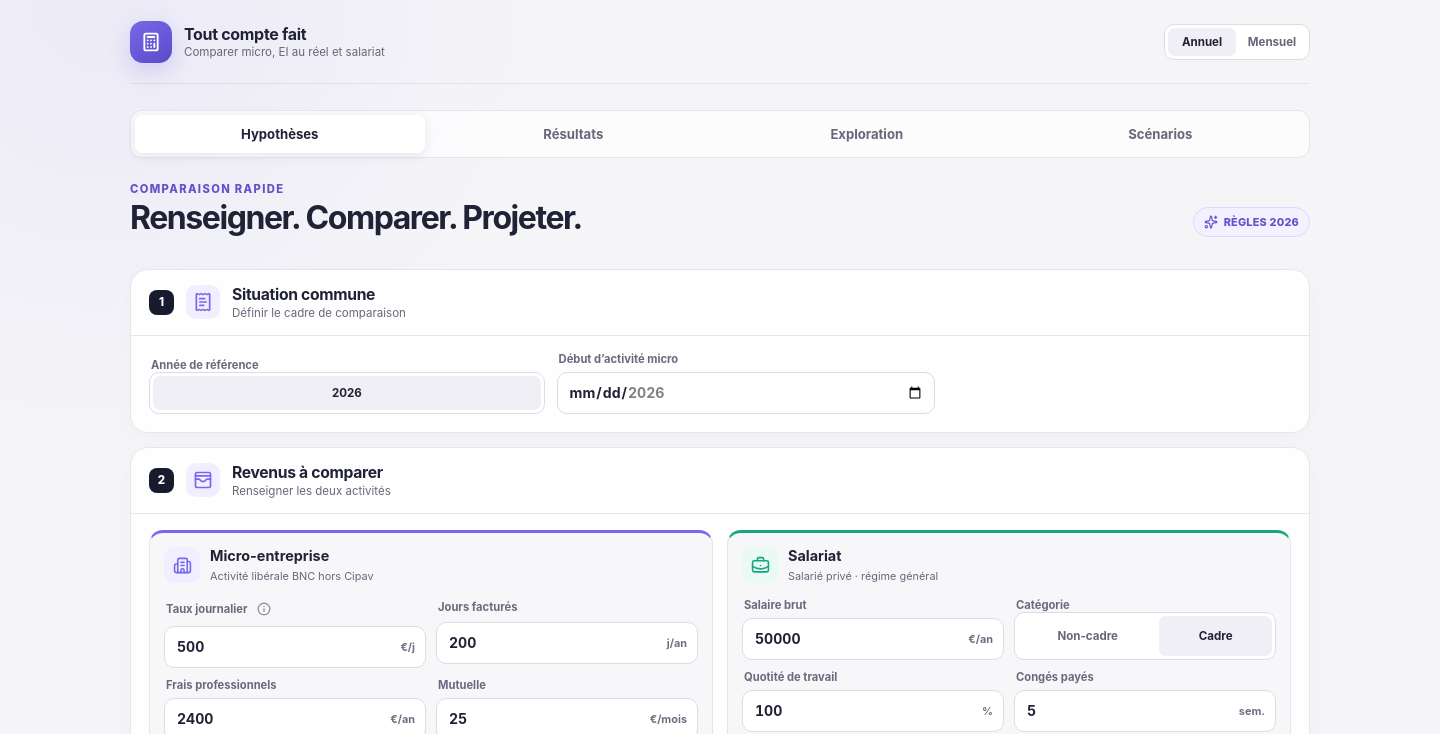
it: decision tools › rejects sub-cent additional expenses visibly and accepts cent-precise amounts
This screenshot has width=1440, height=734.
Click the tab "Exploration": [867, 134] box [722,115,1012,153]
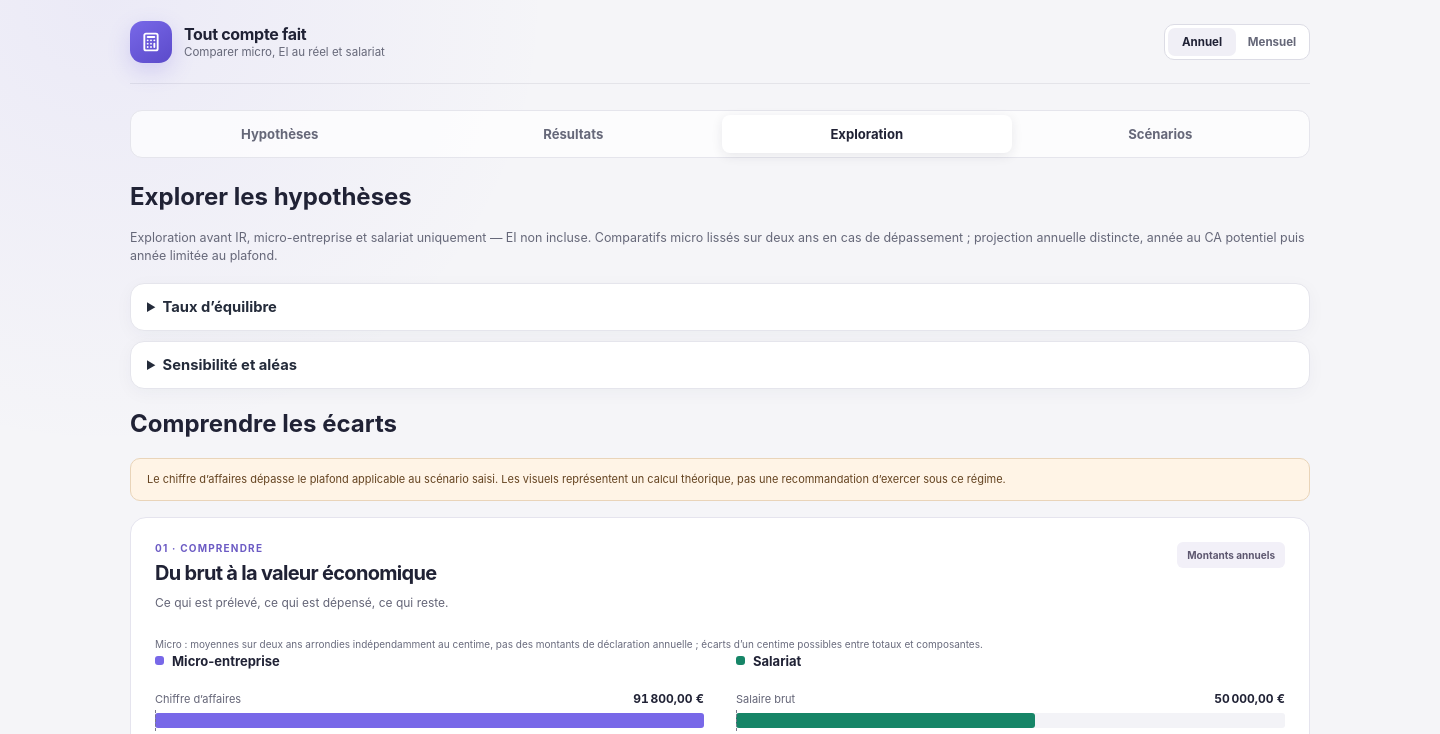
Click the heading "Sensibilité et aléas": [230, 365] box [163,356,297,374]
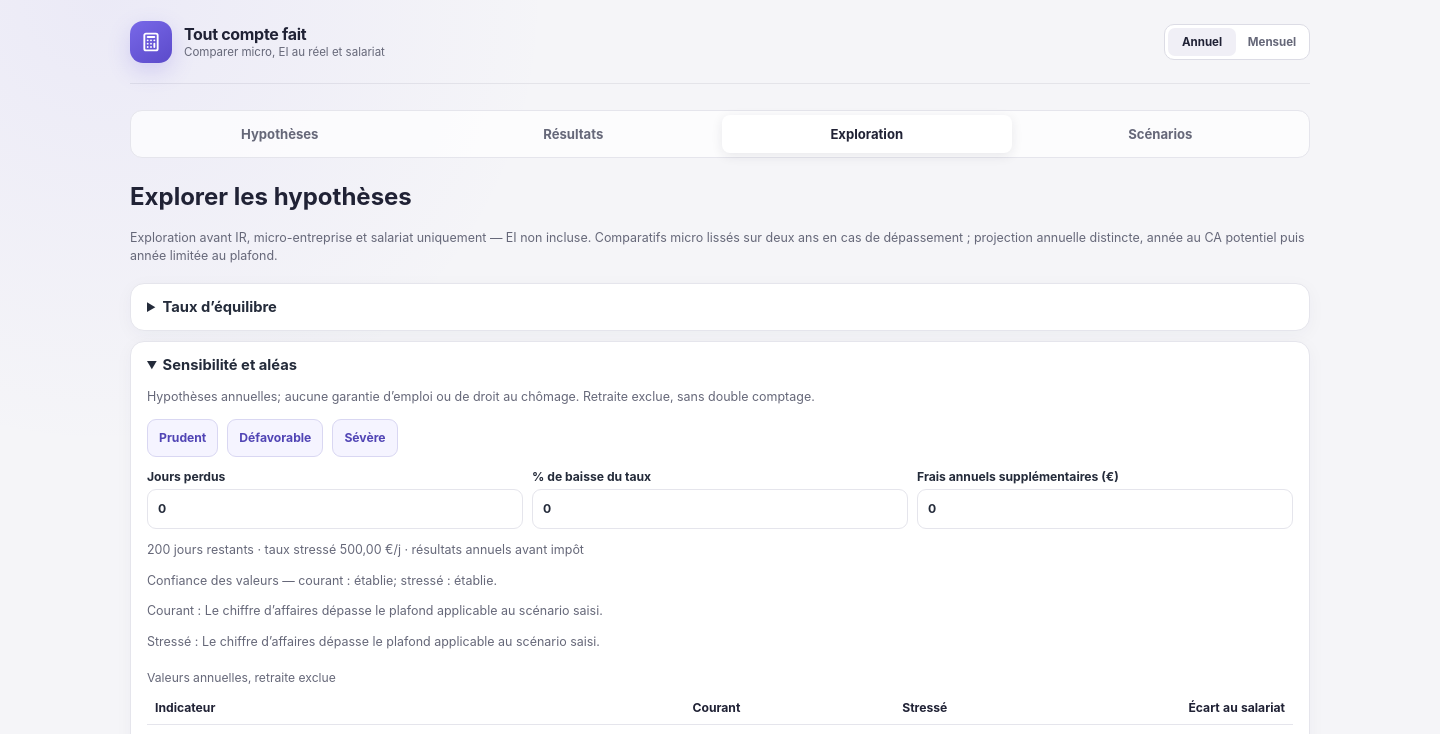
Replace the text in the number field labelled "Frais annuels supplémentaires" with "0.001": [1105, 509] box [917,489,1293,529]
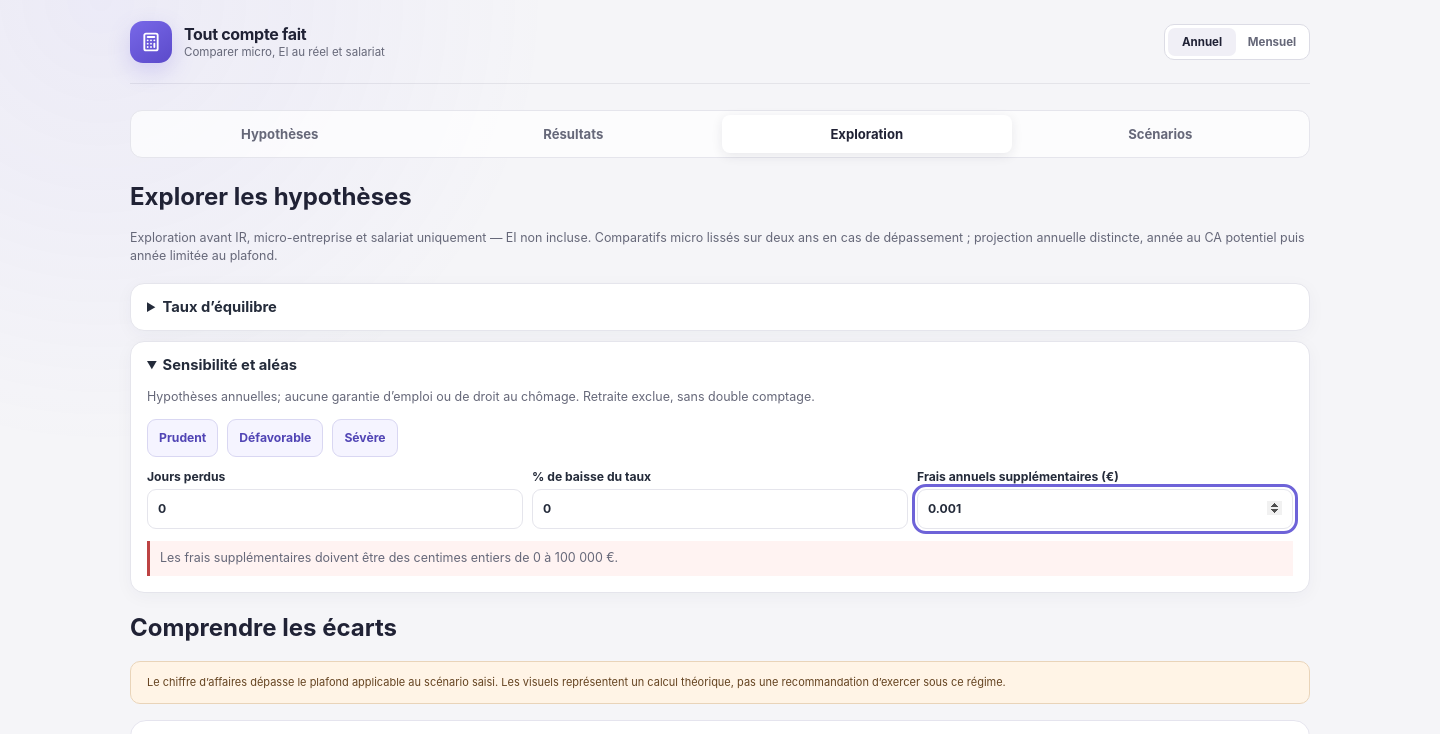
Expected: the message shows "centime", [160,550,618,565]
Replace the text in the number field labelled "Frais annuels supplémentaires" with "1.15": [1105, 509] box [917,489,1293,529]
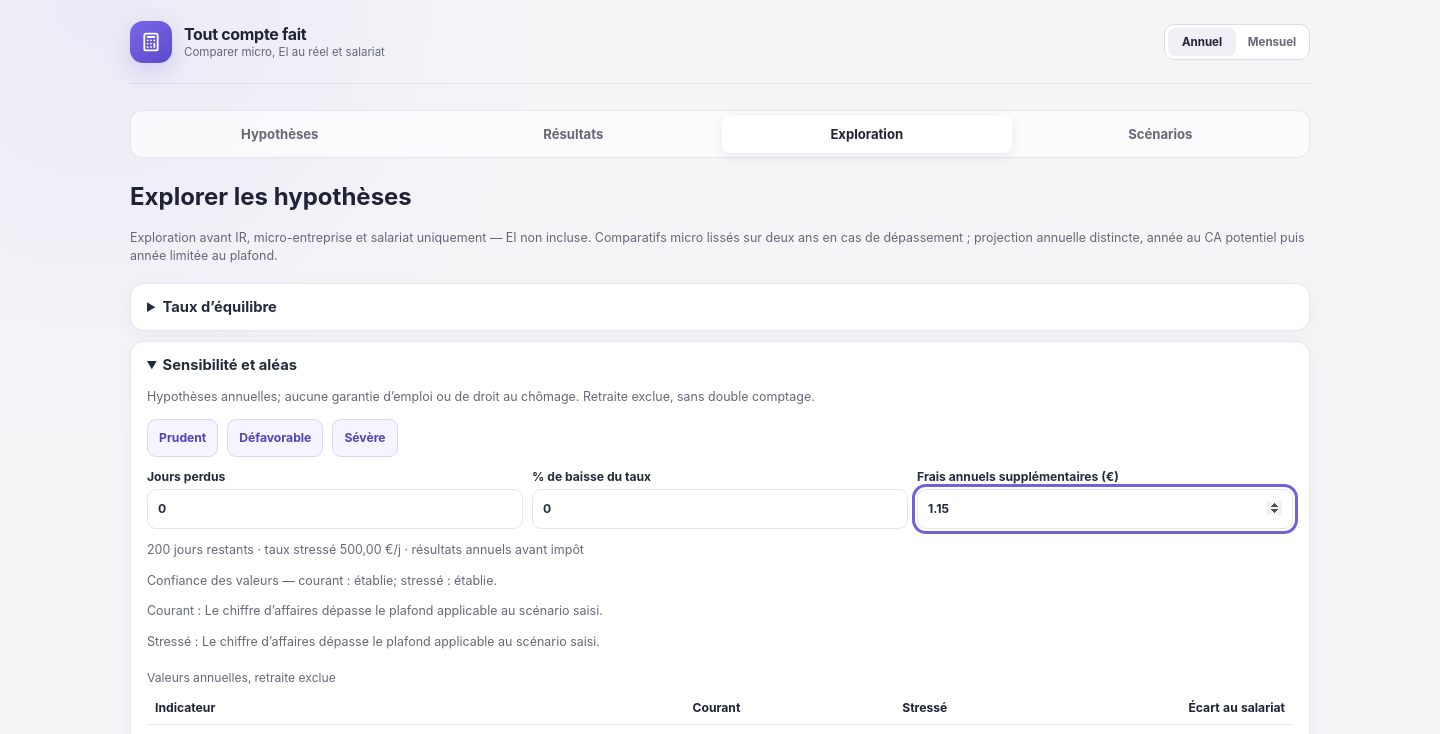
Expected: the message "Les frais supplémentaires doivent être des centimes entiers de 0 à 100 000 €." is gone
